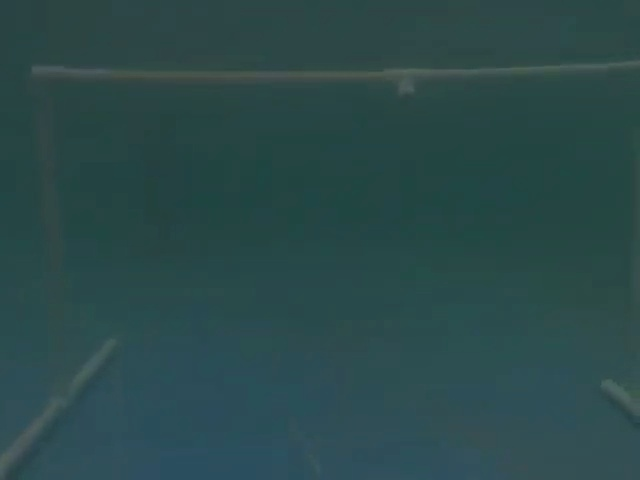gate: (7, 49, 639, 476)
